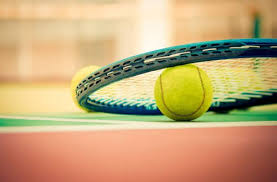tennis_ball: (154, 63, 214, 123), (70, 65, 118, 113)
